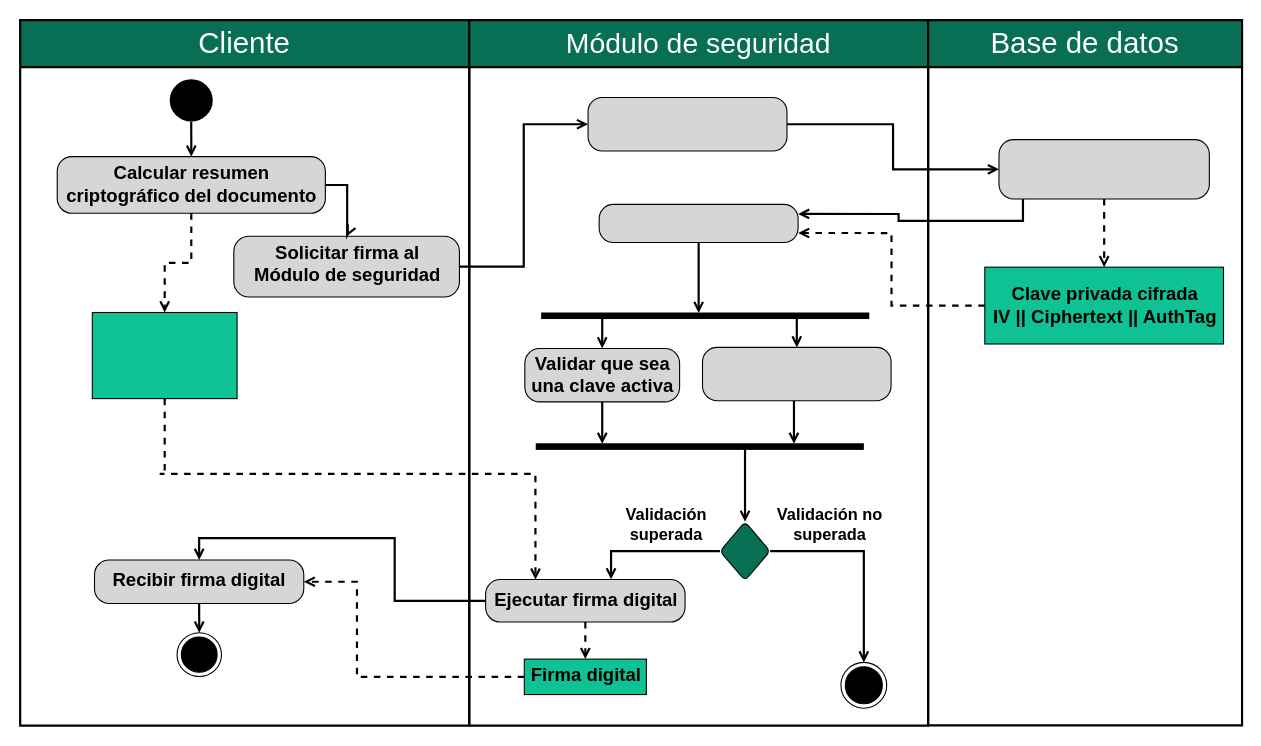
This 1261x746 diagram has some shape labels left out. The centre of each missing label's shape, as x and y in pixels:
"Buscar clave privada en la base de datos" goes at pixel 687 123.
"Descifrar Clave" goes at pixel 698 223.
"Devolver clave solicitada" goes at pixel 1103 169.
"Resumen Criptográfico HASH" goes at pixel 164 355.
"Validar la titularidad de la clave" goes at pixel 796 373.
